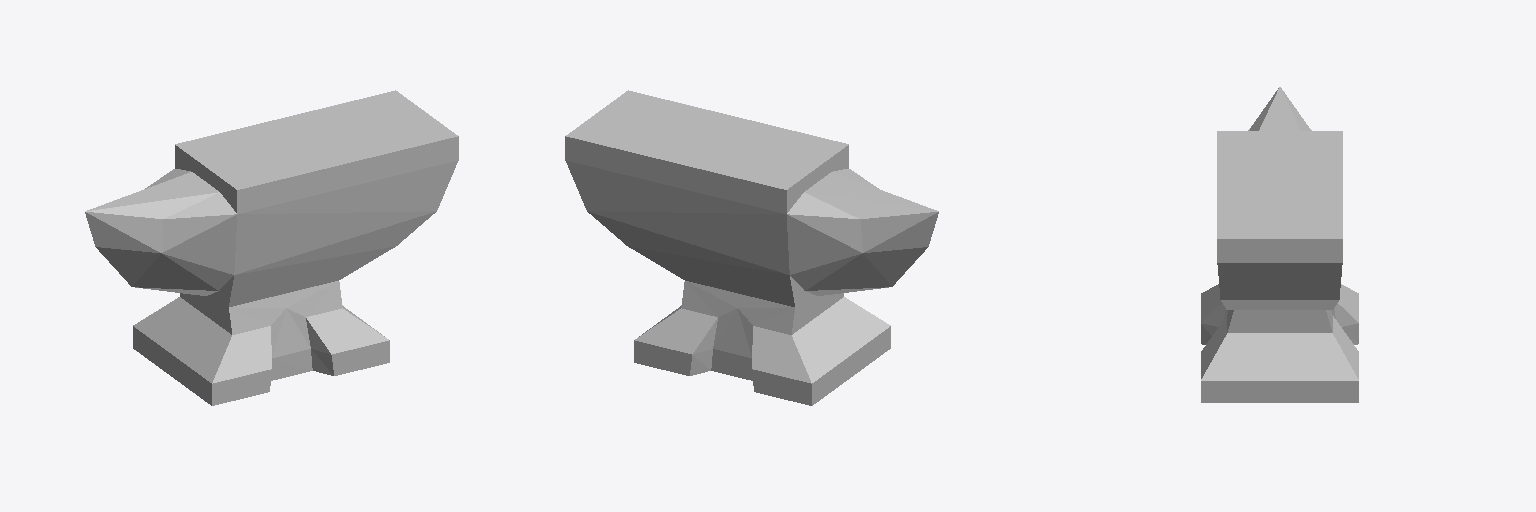
The model's file is Anvil.obj.
3 views of the same model, side by side, from view 1: azimuth 30°, elevation 25°; view 2: azimuth 150°, elevation 25°; view 3: azimuth 270°, elevation 25° (orthographic).
Parts seen in each view (by area): view 1: polygon0; view 2: polygon0; view 3: polygon0.
Boxes of the visible parts, box(x1,y1,x2,y2) form: polygon0: box(85, 90, 458, 405); polygon0: box(565, 90, 938, 405); polygon0: box(1201, 87, 1358, 402).
Size of the model in its own units: 6.6 by 3.71 by 2.64.